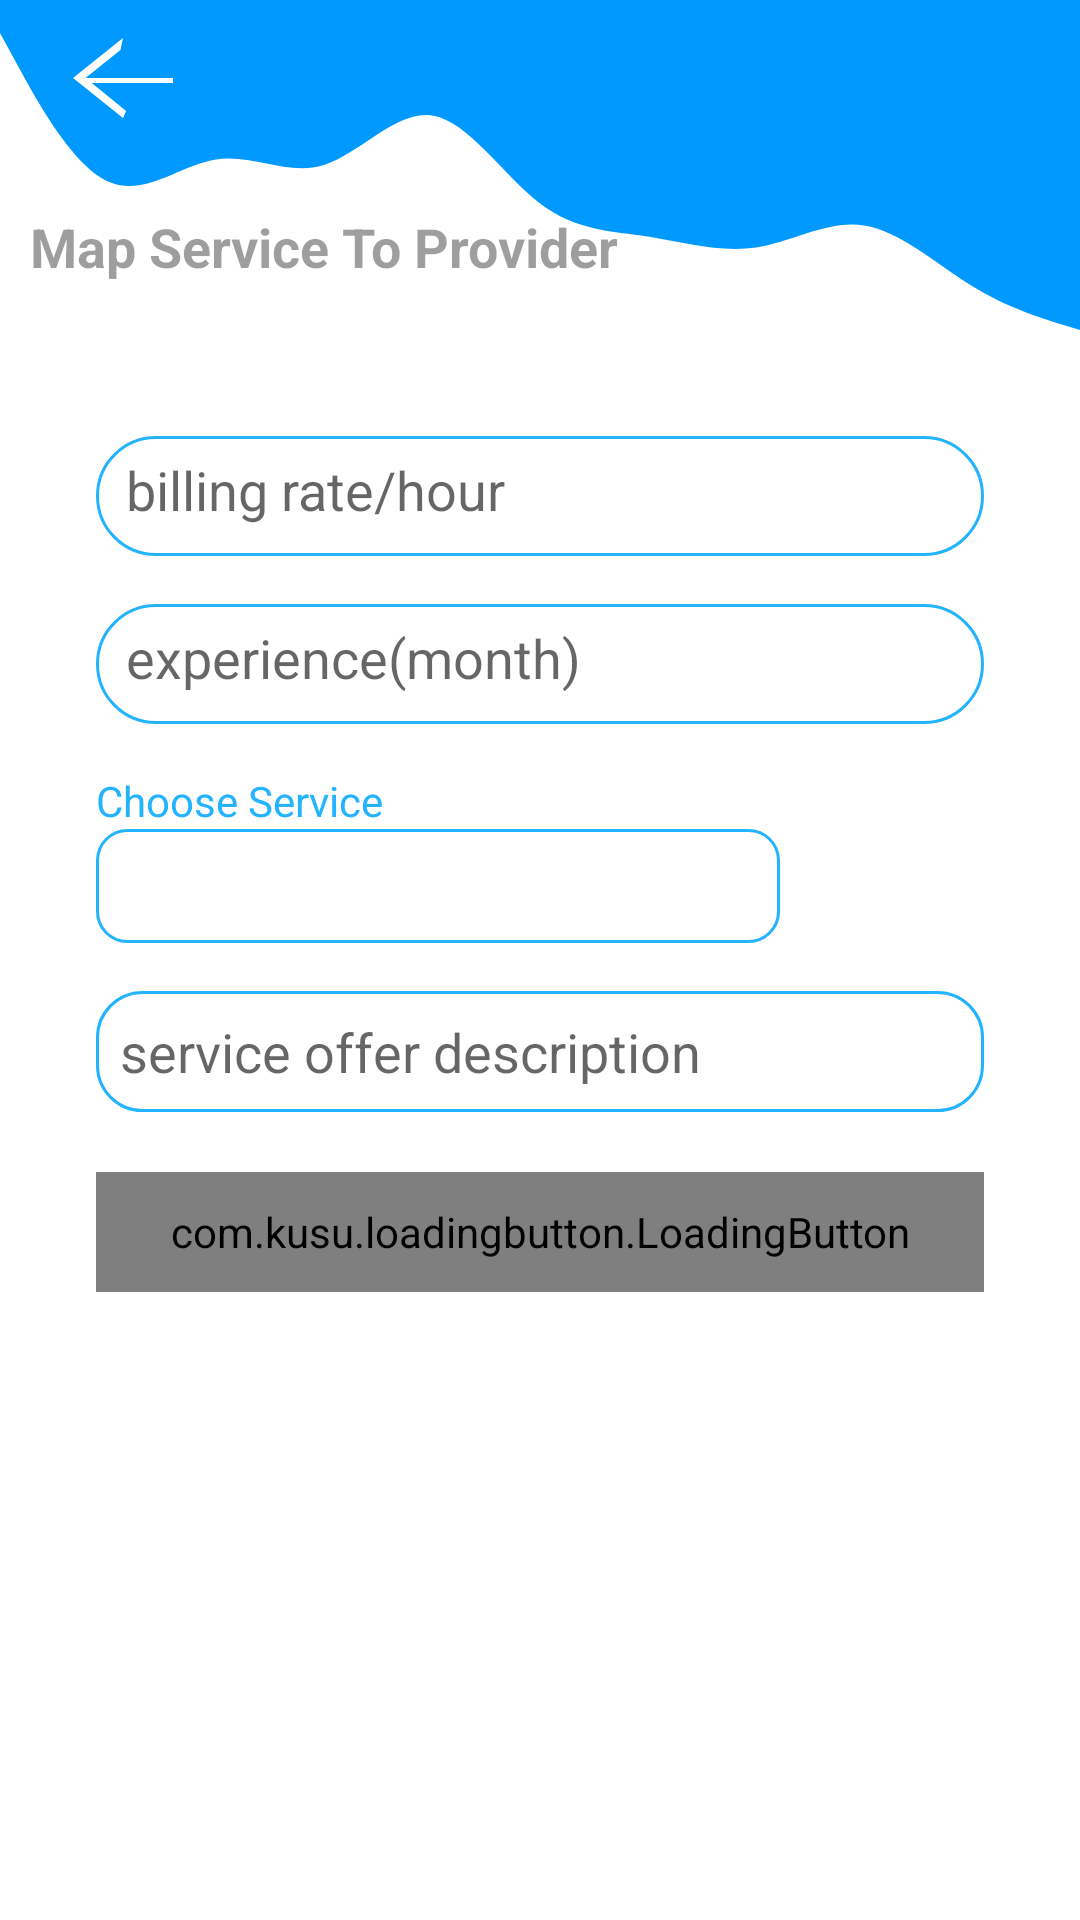

Icons on this 1080px×1920px Android screen, each with its box as (x1, y1, x2, y2):
back arrow: (73, 38, 173, 118)
